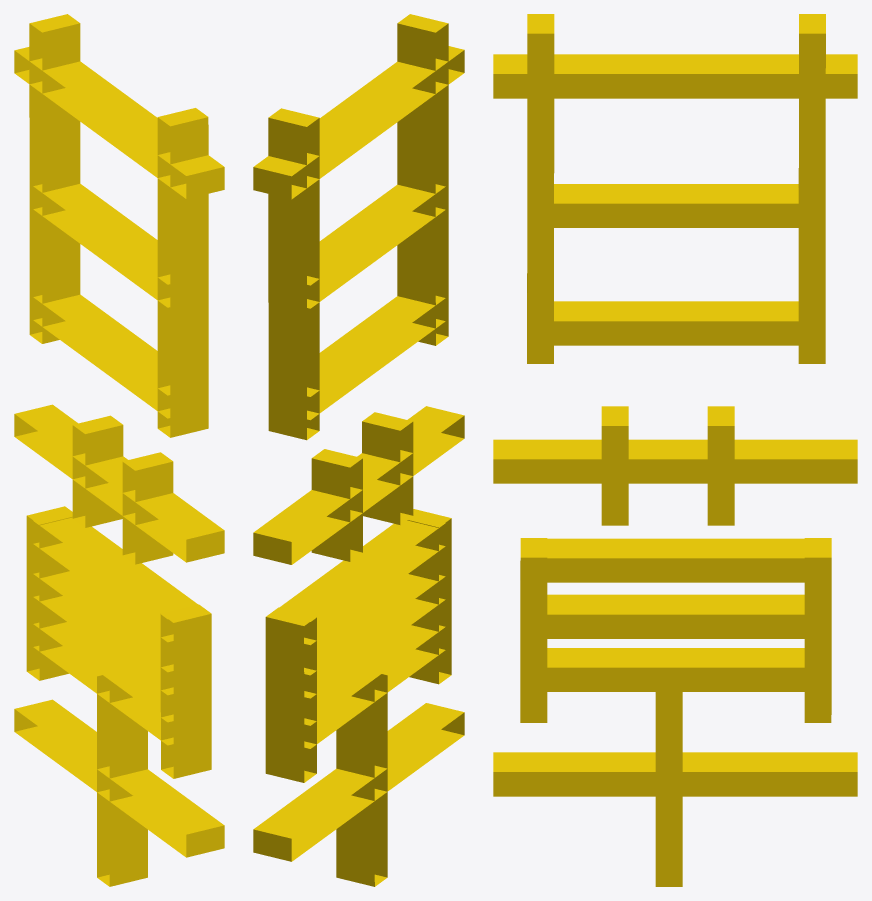
The model's file is Neon_Sign.fbx.
The picture shows the model from 3 angles, left to right: view 1: azimuth 30°, elevation 25°; view 2: azimuth 150°, elevation 25°; view 3: azimuth 270°, elevation 25°; orthographic projection. The views are drawn at different scales.
Parts seen in each view (by area): view 1: Cube.008; view 2: Cube.008; view 3: Cube.008.
Boxes of the visible parts, x1,y1,x2,y2 form: Cube.008: (14, 14, 224, 886); Cube.008: (253, 14, 464, 886); Cube.008: (493, 14, 857, 886).
Size of the model in its own units: 5.15 by 104 by 40.13.
